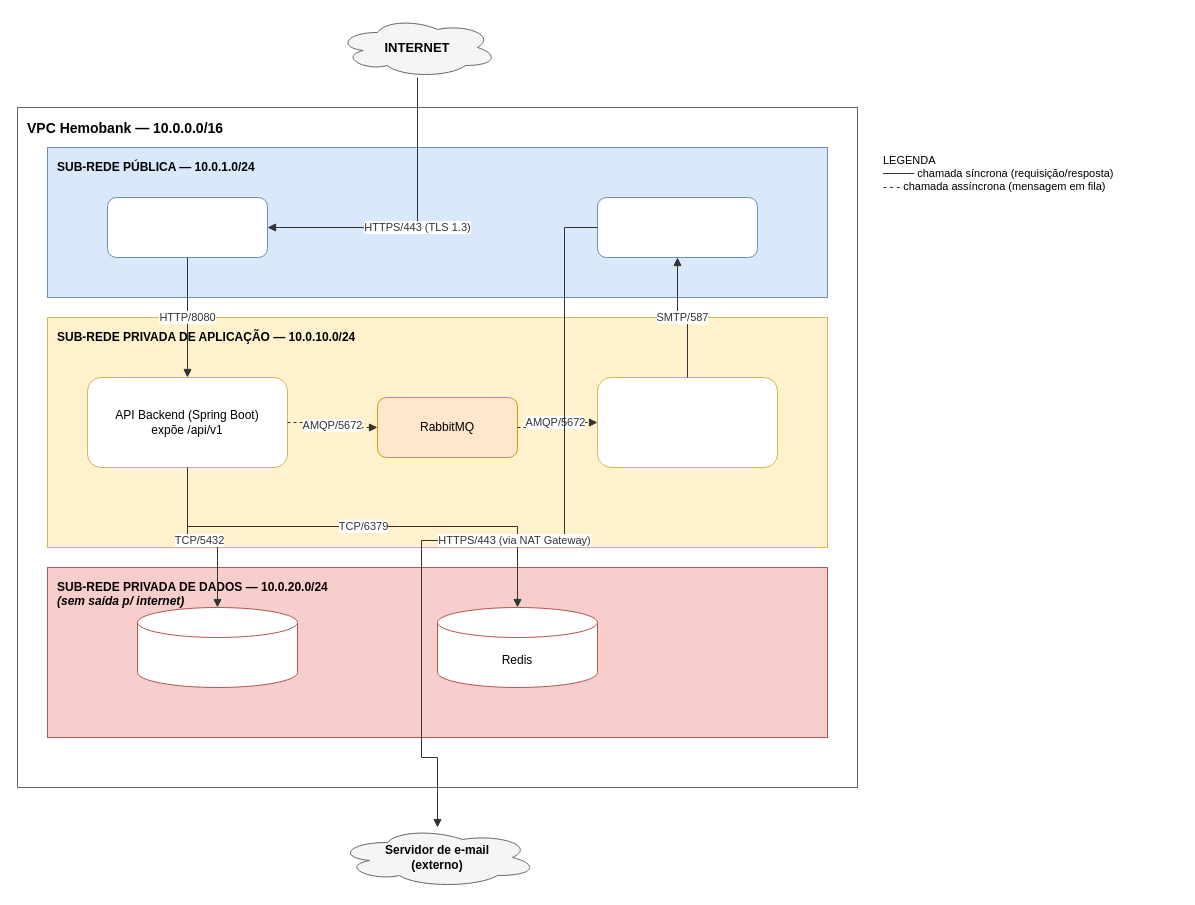
The diagram is 1195 pixels wide and 905 high, and some of its shapes have lost their labels. Here are the shapes that lost their labels. From the top down, the centre of each, then its label:
[187,227]: Load Balancer (Nginx)
[677,227]: NAT Gateway
[687,422]: Worker Notifica
[217,647]: PostgreSQL
